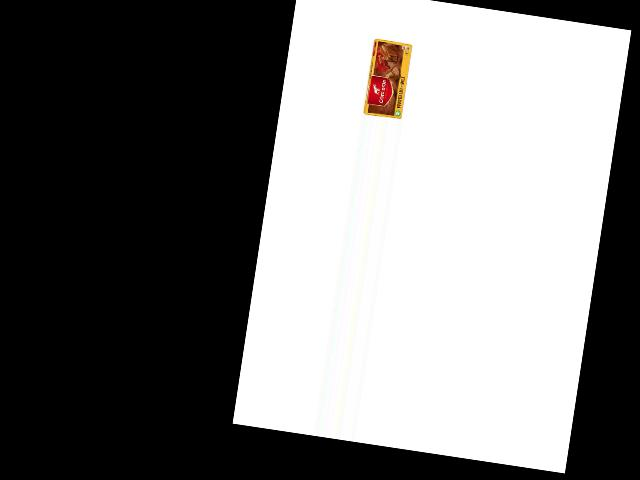chocolate: (361, 36, 419, 120)
